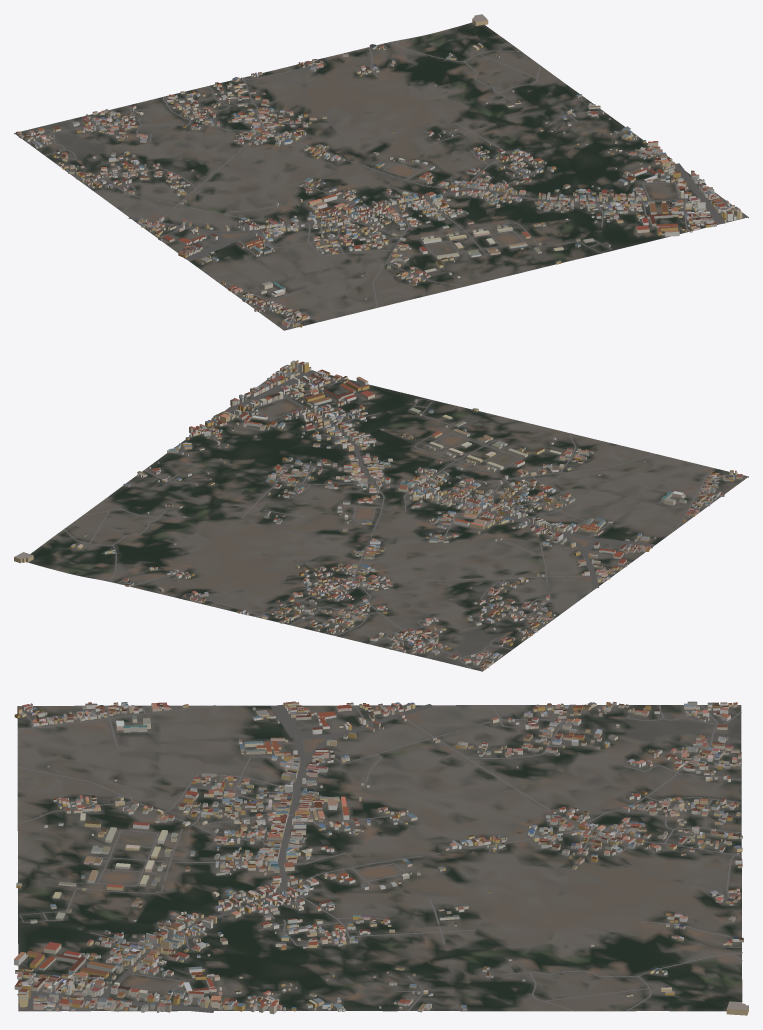
3 views of the same model, one above another, from view 1: azimuth 30°, elevation 25°; view 2: azimuth 150°, elevation 25°; view 3: azimuth 270°, elevation 25° (orthographic). The views are drawn at different scales.
Parts seen in each view (by area): view 1: ground, buildings, roads; view 2: ground, buildings, roads; view 3: ground, buildings, roads.
Part boxes in pixels (<box>): ground: <box>14,22,748,330</box>; buildings: <box>16,14,742,328</box>; roads: <box>24,39,744,329</box>; ground: <box>26,364,748,671</box>; buildings: <box>14,360,742,670</box>; roads: <box>63,370,738,669</box>; ground: <box>17,705,742,1011</box>; buildings: <box>14,701,748,1015</box>; roads: <box>17,704,742,1012</box>.
Size of the model in its own units: 1419 by 33.96 by 1423.
